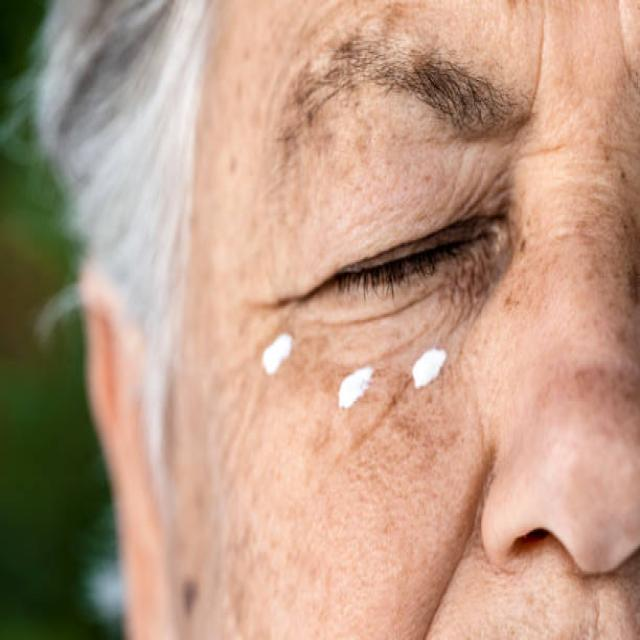Dry-Skin: (206, 326, 452, 598), (526, 86, 627, 532)
